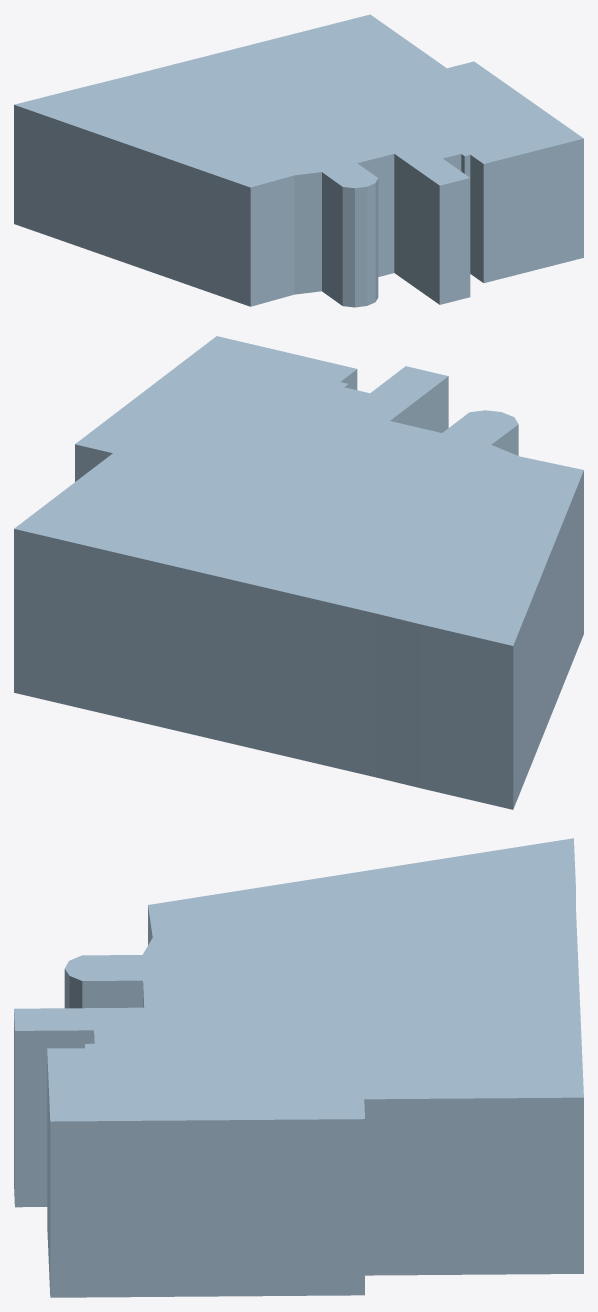
Rendered from osm_way_1390009973.glb.
The picture shows the model from 3 angles, top to bottom: view 1: azimuth 30°, elevation 25°; view 2: azimuth 150°, elevation 25°; view 3: azimuth 270°, elevation 25°; orthographic projection. The views are drawn at different scales.
Parts seen in each view (by area): view 1: osm_way_1390009973; view 2: osm_way_1390009973; view 3: osm_way_1390009973.
Part boxes in pixels (left/top/right/bottom): osm_way_1390009973: left=14, top=14, right=583, bottom=307; osm_way_1390009973: left=14, top=336, right=583, bottom=809; osm_way_1390009973: left=14, top=838, right=583, bottom=1297.
Bounding box in the file's own units: 43.43 × 12.6 × 36.93.
